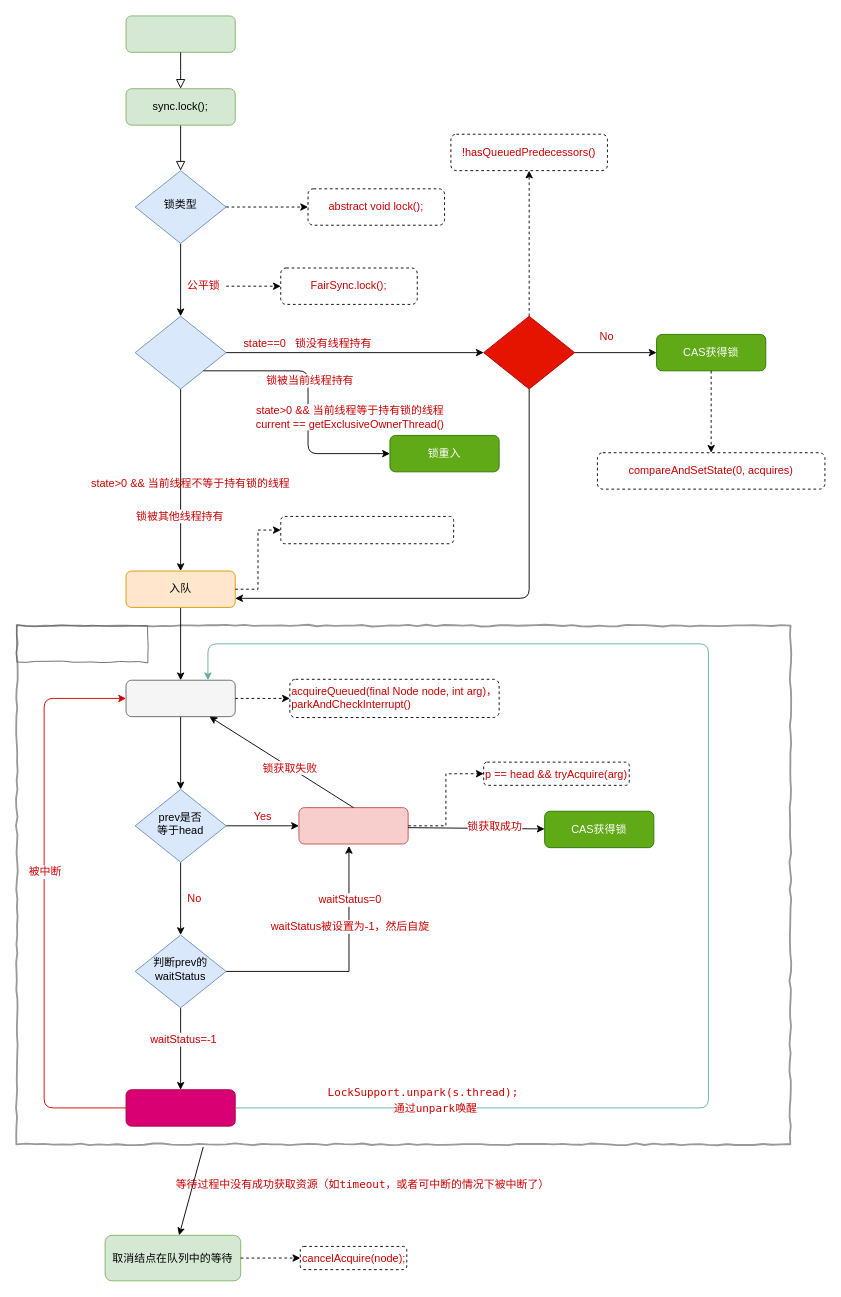
The diagram is 841 pixels wide and 1297 high, and some of its shapes have lost their labels. The box of each missing label's shape, as (x1, y1, x2, y2) in pixels:
acquireQueued: (125, 679, 235, 717)
addWaiter(Node.EXCLUSIVE): (280, 516, 454, 544)
lock(): (125, 15, 235, 52)
park,进入等待状态: (125, 1089, 235, 1126)
判断是否 需要排队: (483, 315, 575, 389)
判断锁状态: (134, 315, 226, 389)
尝试获取锁: (298, 807, 408, 844)
线程进入等待: (16, 625, 148, 662)
